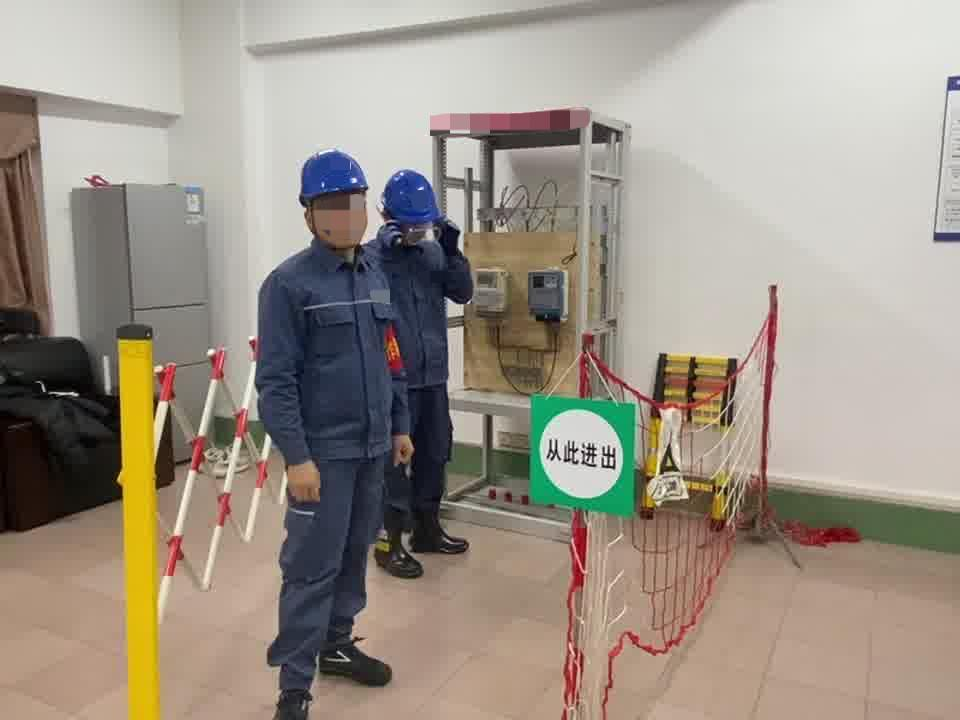halt: (298, 151, 376, 252), (383, 172, 445, 243)
